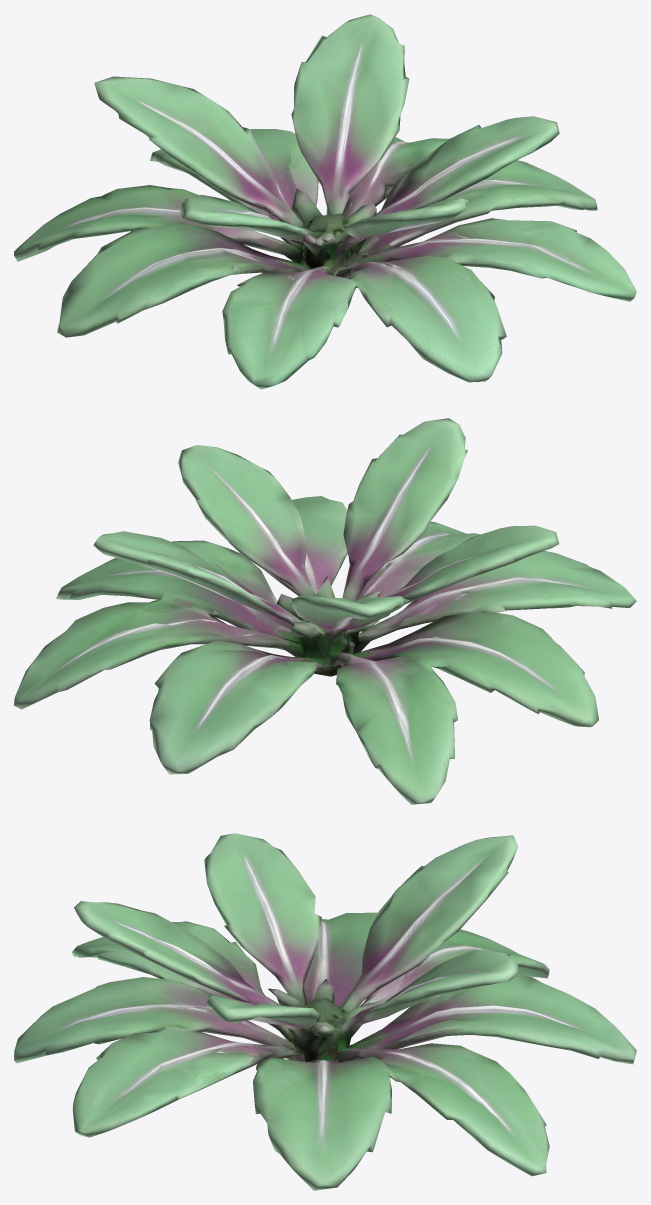
3 views of the same model, one above another, from view 1: azimuth 30°, elevation 25°; view 2: azimuth 150°, elevation 25°; view 3: azimuth 270°, elevation 25° (orthographic).
Visible parts, largest first — view 1: Mesh_0; view 2: Mesh_0; view 3: Mesh_0.
Boxes of the visible parts, <box> form: Mesh_0: <box>14,14,636,389</box>; Mesh_0: <box>14,418,636,804</box>; Mesh_0: <box>14,833,636,1190</box>.
Bounding box in the file's own units: 1.91 × 0.5844 × 1.91.
1 material, 1 textured.
